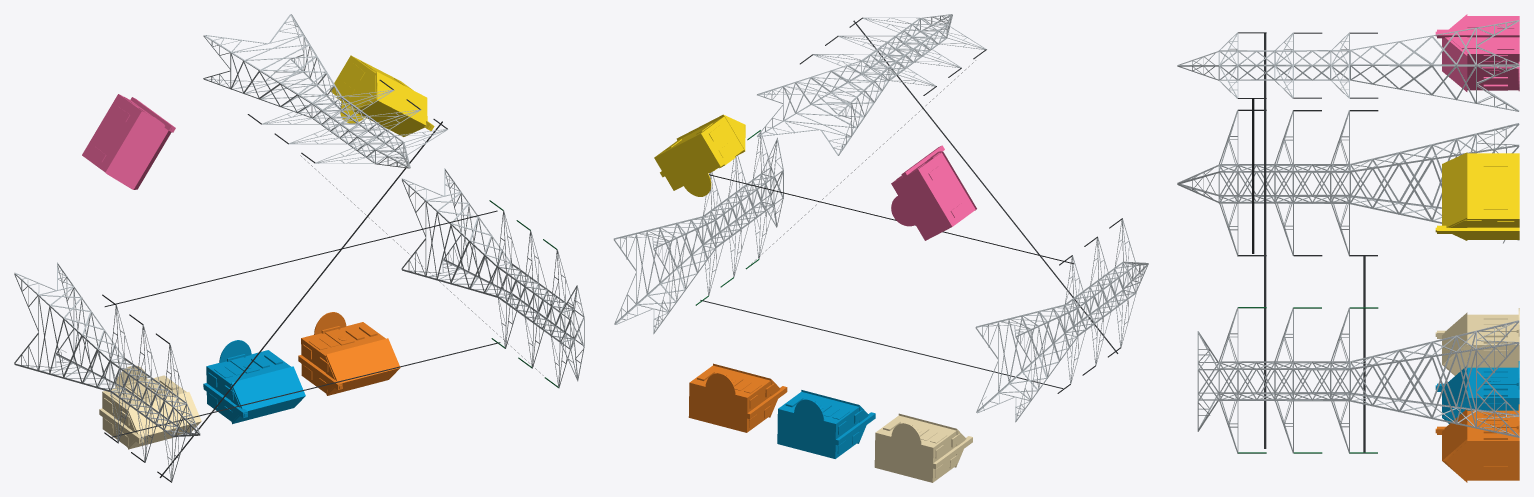
File: tinker.obj
The picture shows the model from 3 angles, left to right: view 1: azimuth 30°, elevation 25°; view 2: azimuth 150°, elevation 25°; view 3: azimuth 270°, elevation 25°; orthographic projection. The views are drawn at different scales.
Visible parts, largest first — view 1: group_12568524, group_16089887, group_40919, group_16345508, group_16311991, group_16768282, group_2829873, group_10988977; view 2: group_12568524, group_16345508, group_40919, group_16089887, group_16311991, group_16768282, group_2829873; view 3: group_12568524, group_16768282, group_16345508, group_16089887, group_16311991, group_40919, group_2829873, group_10988977.
Boxes of the visible parts, x1=… form: group_12568524: x1=14, y1=14, x2=584, y2=482; group_16089887: x1=298, y1=312, x2=400, y2=395; group_40919: x1=203, y1=340, x2=305, y2=424; group_16345508: x1=82, y1=94, x2=175, y2=189; group_16311991: x1=99, y1=365, x2=201, y2=449; group_16768282: x1=330, y1=55, x2=434, y2=136; group_2829873: x1=102, y1=79, x2=543, y2=482; group_10988977: x1=173, y1=143, x2=410, y2=436; group_12568524: x1=613, y1=17, x2=1136, y2=422; group_16345508: x1=891, y1=145, x2=976, y2=240; group_40919: x1=777, y1=390, x2=875, y2=458; group_16089887: x1=688, y1=363, x2=787, y2=432; group_16311991: x1=874, y1=413, x2=972, y2=482; group_16768282: x1=654, y1=114, x2=745, y2=196; group_2829873: x1=700, y1=17, x2=1122, y2=393; group_12568524: x1=1197, y1=20, x2=1519, y2=453; group_16768282: x1=1435, y1=152, x2=1519, y2=240; group_16345508: x1=1435, y1=14, x2=1519, y2=91; group_16089887: x1=1435, y1=404, x2=1519, y2=482; group_16311991: x1=1435, y1=308, x2=1519, y2=375; group_40919: x1=1435, y1=361, x2=1519, y2=423; group_2829873: x1=1238, y1=32, x2=1378, y2=453; group_10988977: x1=1177, y1=51, x2=1219, y2=203.
Bounding box in the file's own units: 91 × 75 × 60.
